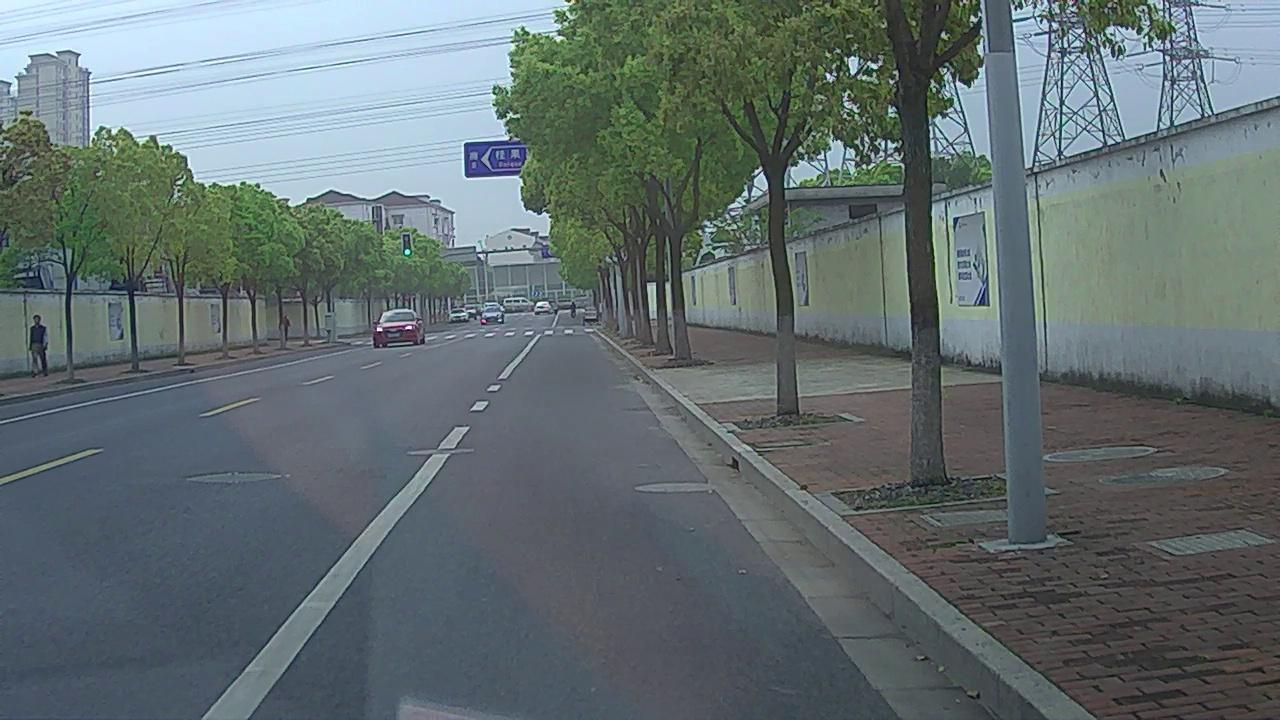traffic_light: (403, 232, 411, 255)
